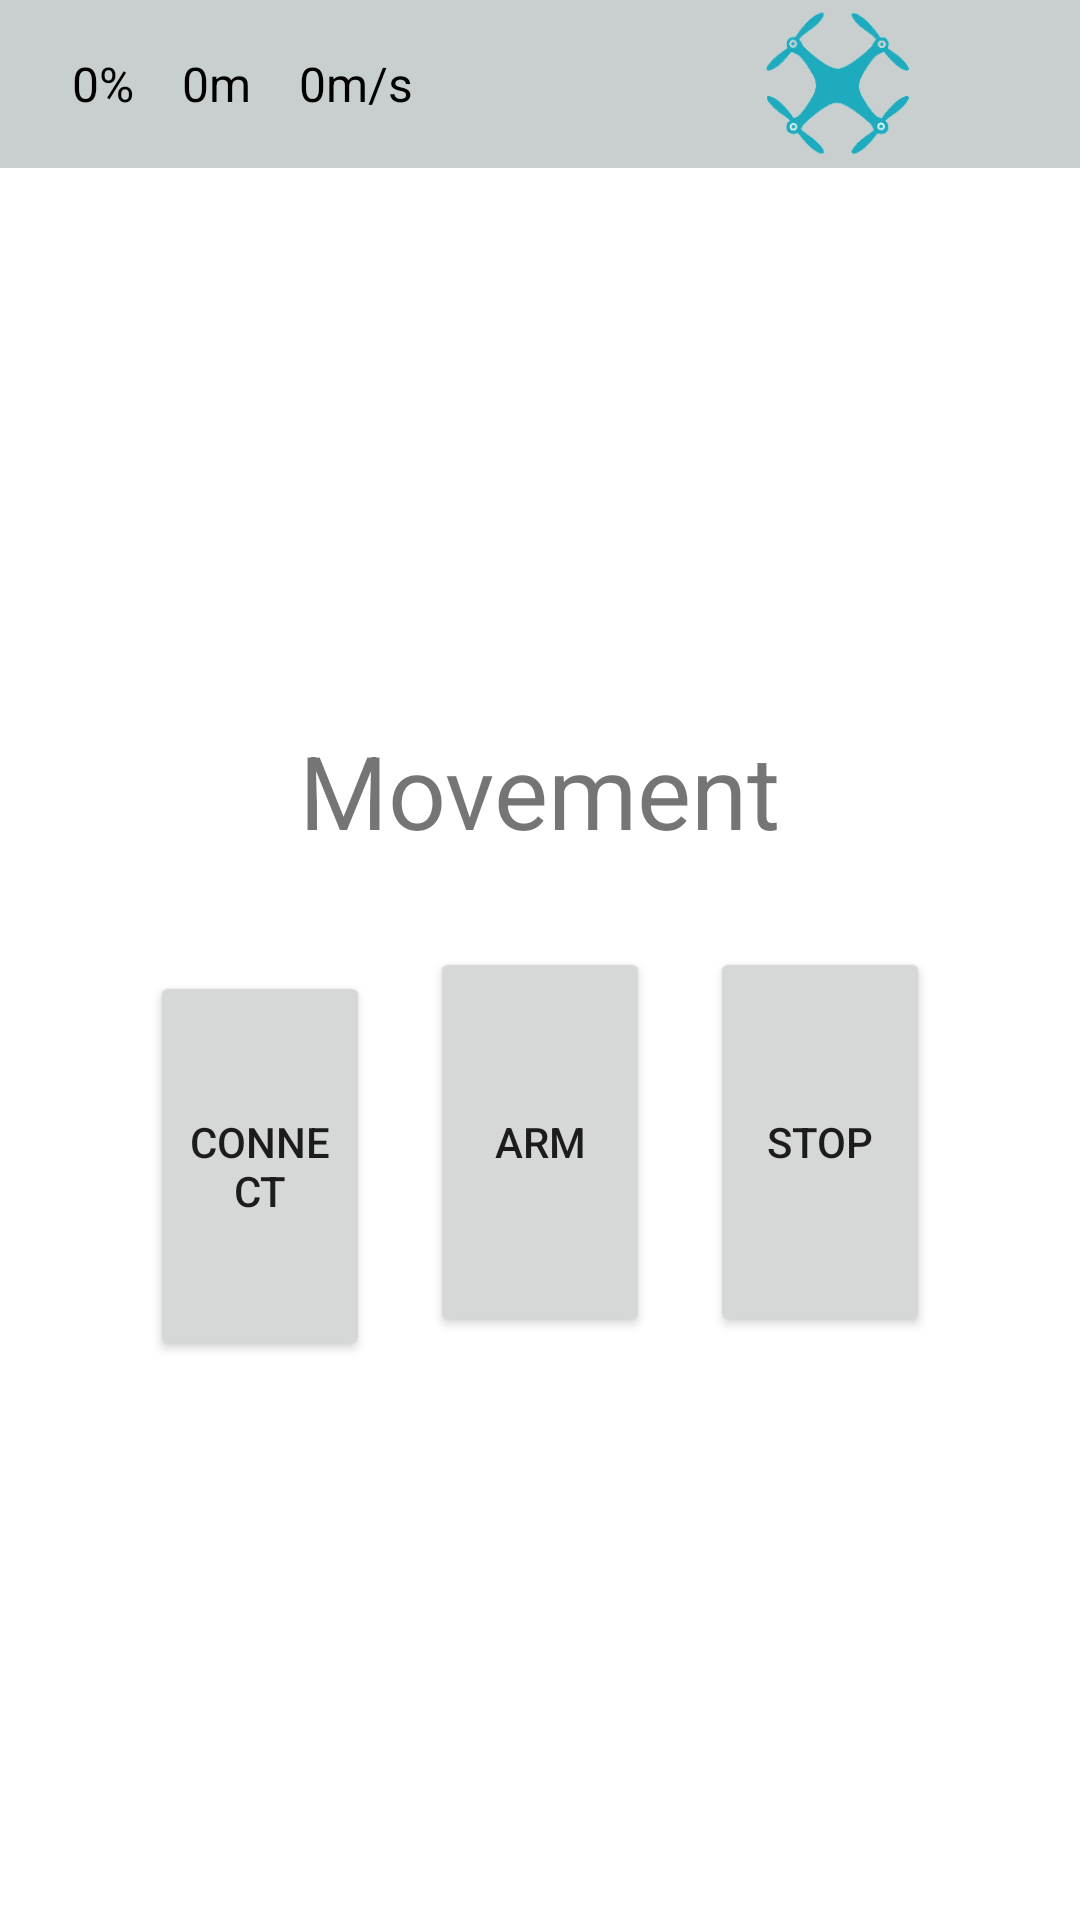

Where icons sit on this 1080 × 1920 app screen, as (x1, y1, x2, y2):
drone: (766, 12, 909, 154)
